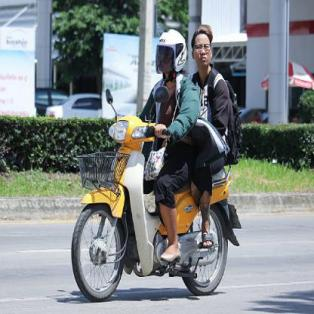Motocicleta: (73, 94, 235, 305)
